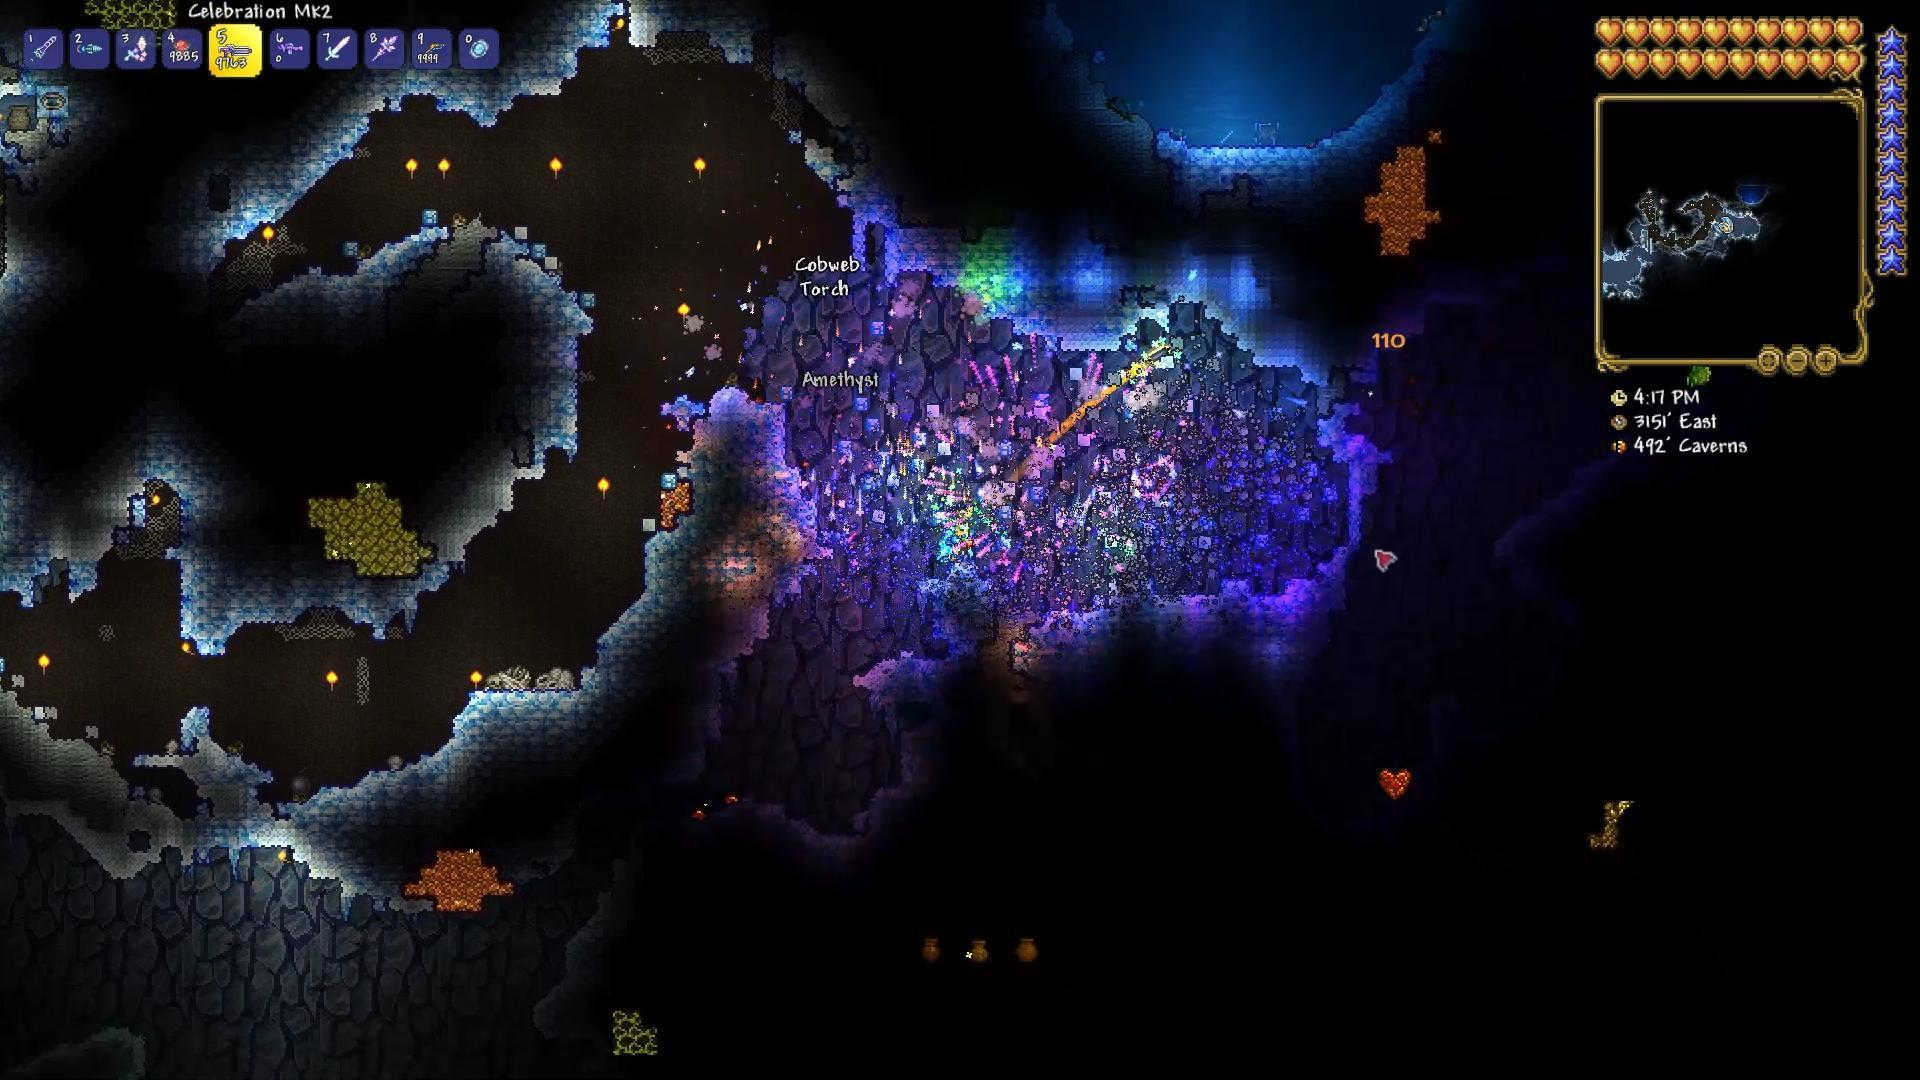lifeC: (1374, 762, 1415, 803)
pot: (8, 103, 37, 137)
